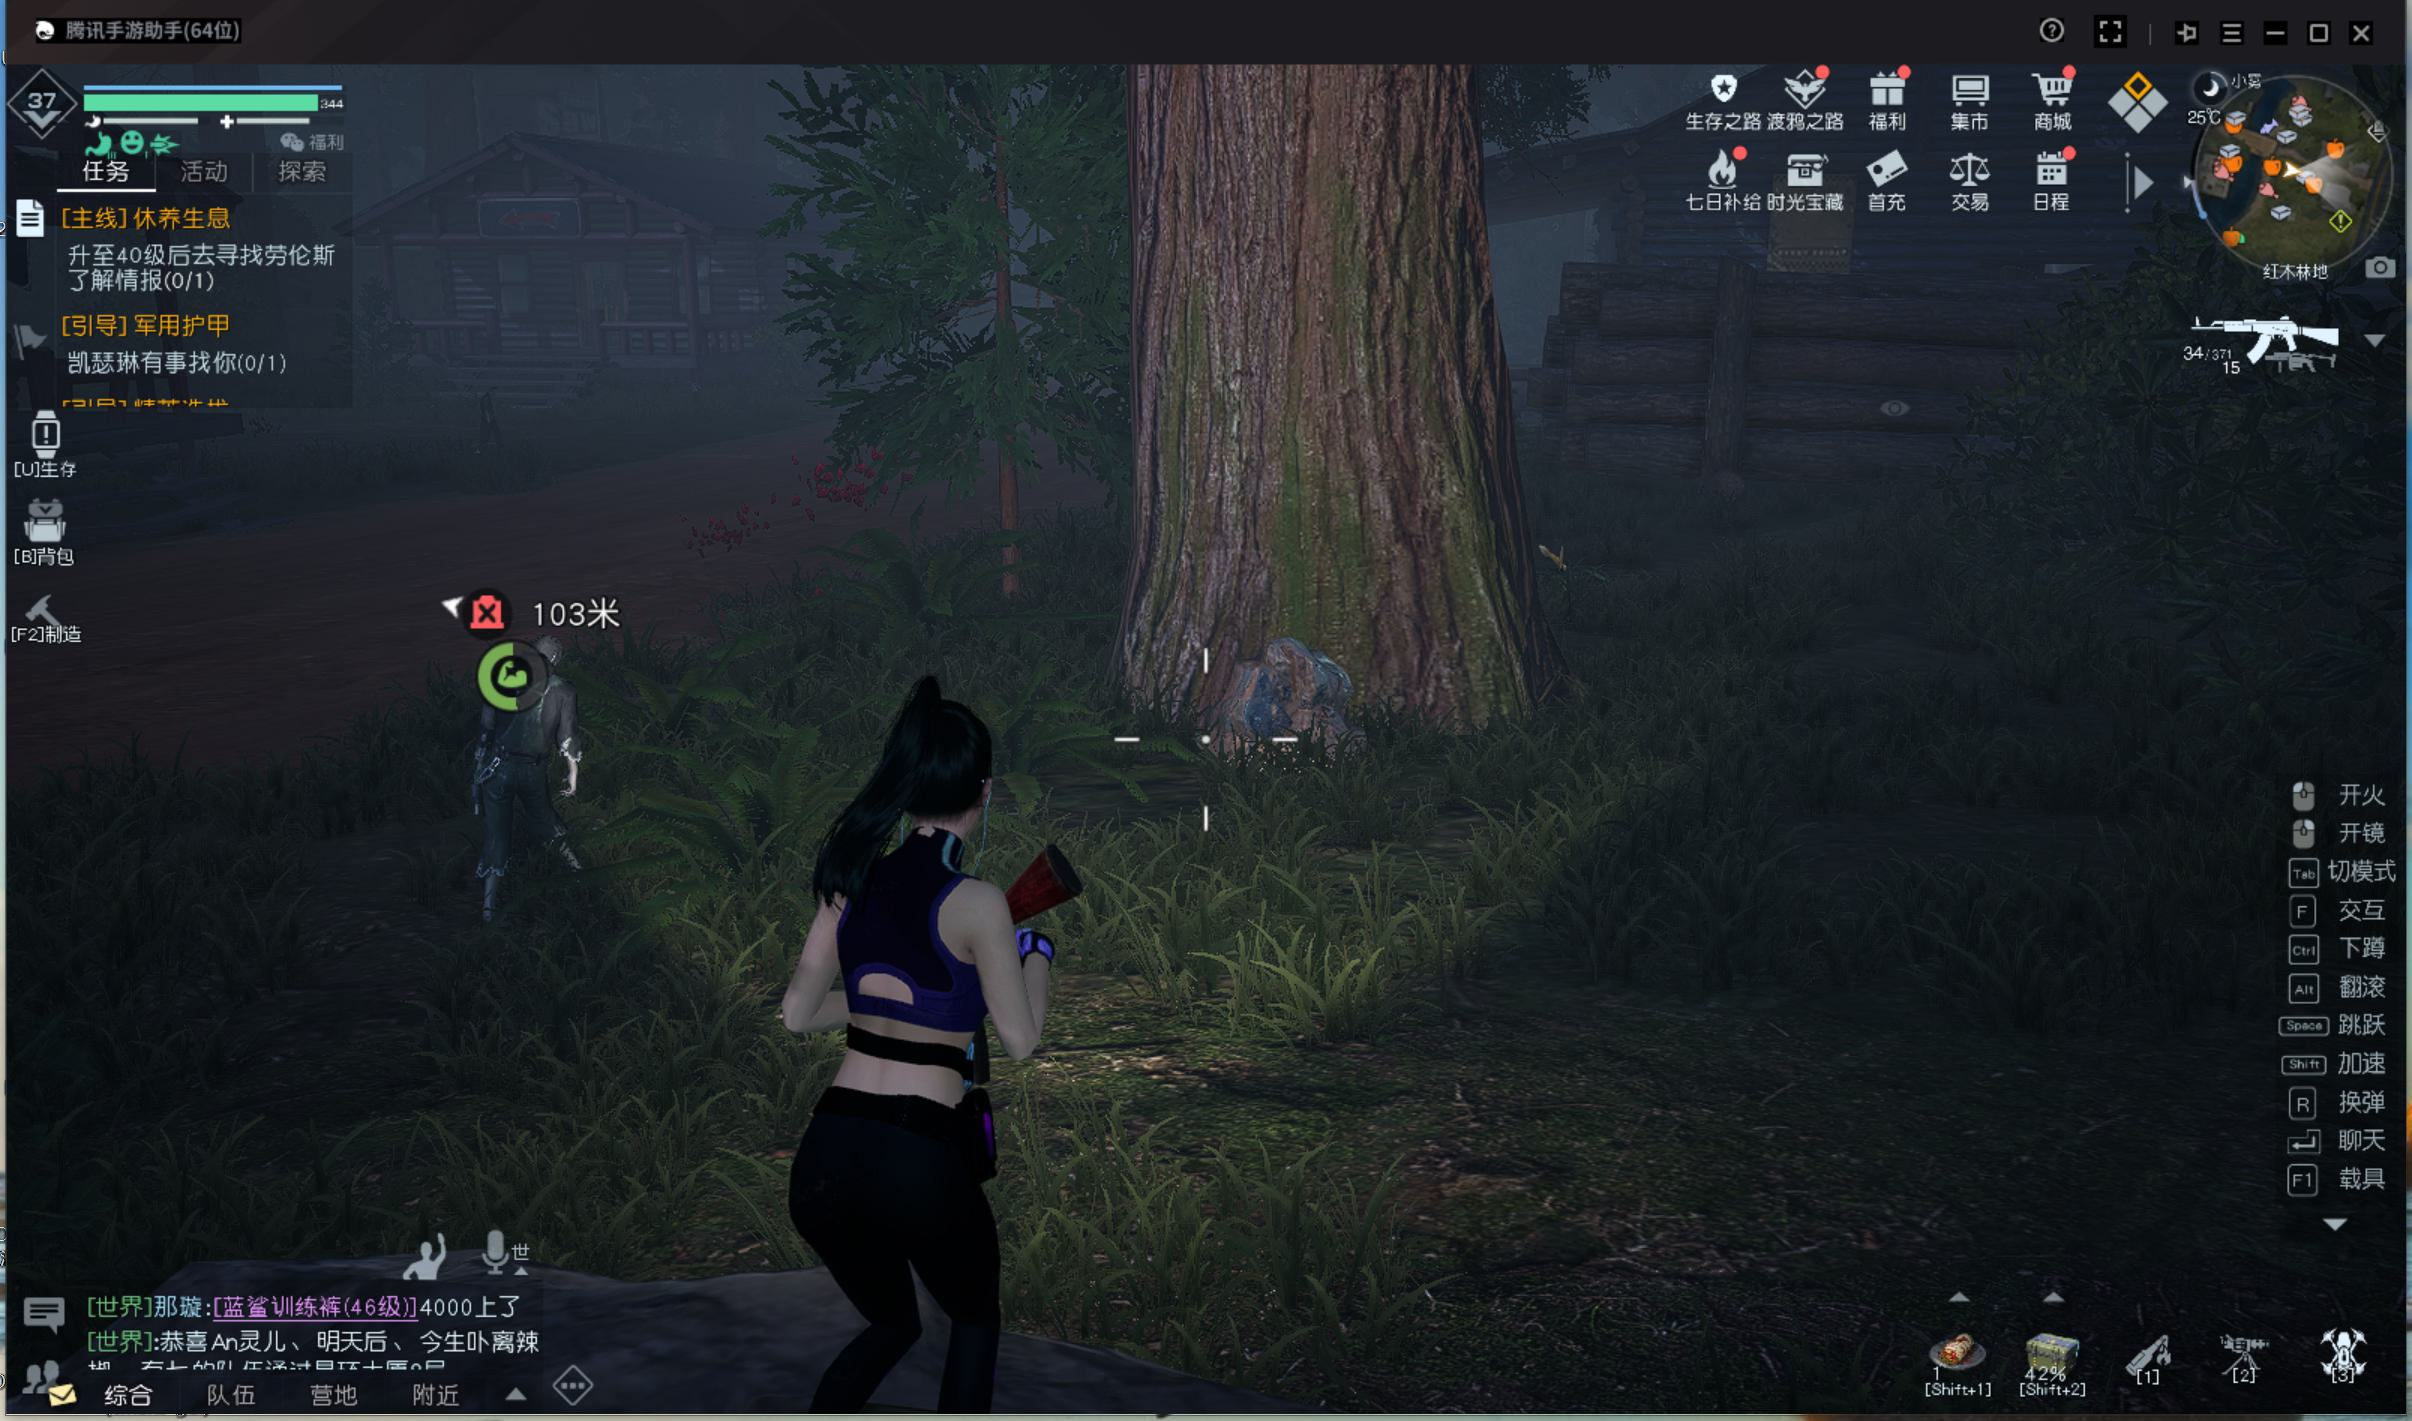stone: (1208, 643, 1385, 782)
tree: (1106, 96, 1560, 648)
